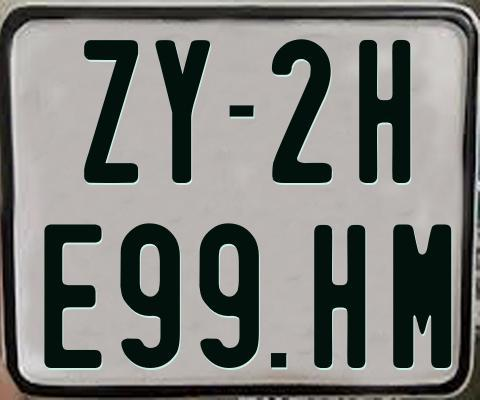2: (271, 36, 334, 180)
9: (117, 220, 181, 366), (197, 223, 258, 371)
E: (41, 223, 100, 369)
H: (356, 39, 411, 186), (312, 222, 364, 368)
M: (391, 221, 455, 369)
Y: (155, 38, 213, 186)
Z: (84, 37, 143, 185)
